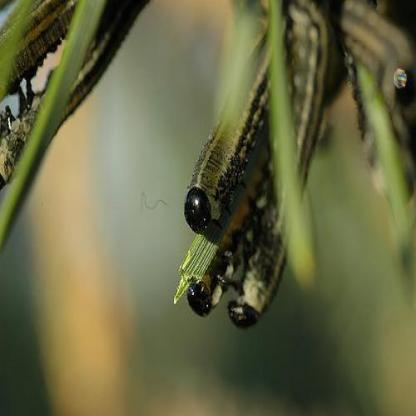armyworm: (170, 0, 341, 334), (209, 0, 365, 343), (174, 2, 312, 253), (2, 0, 164, 202), (311, 0, 416, 212), (0, 0, 106, 94)
